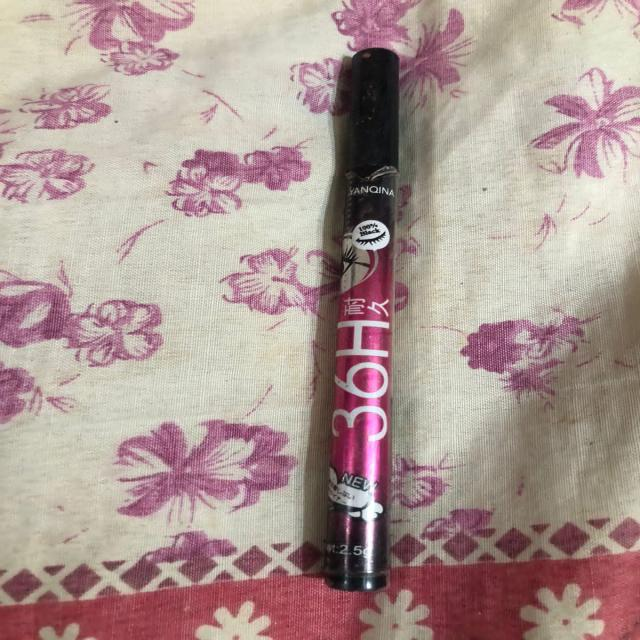eye liner: (306, 44, 408, 617)
